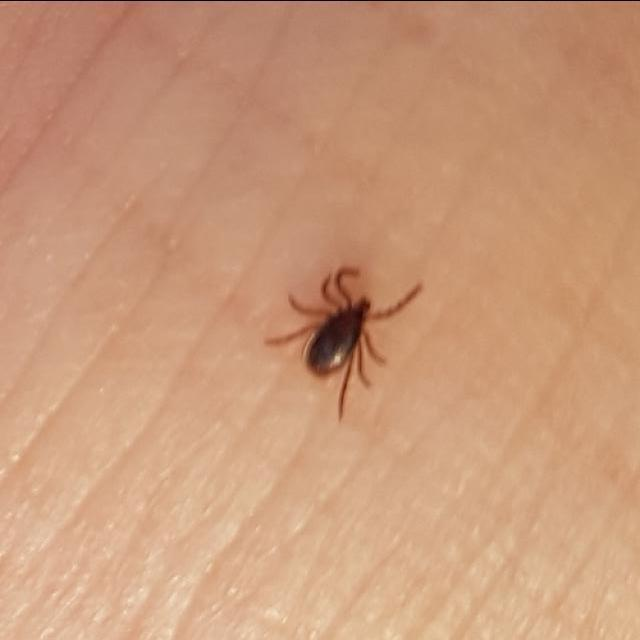Ixodes Ricinus-M: (265, 264, 424, 421)
